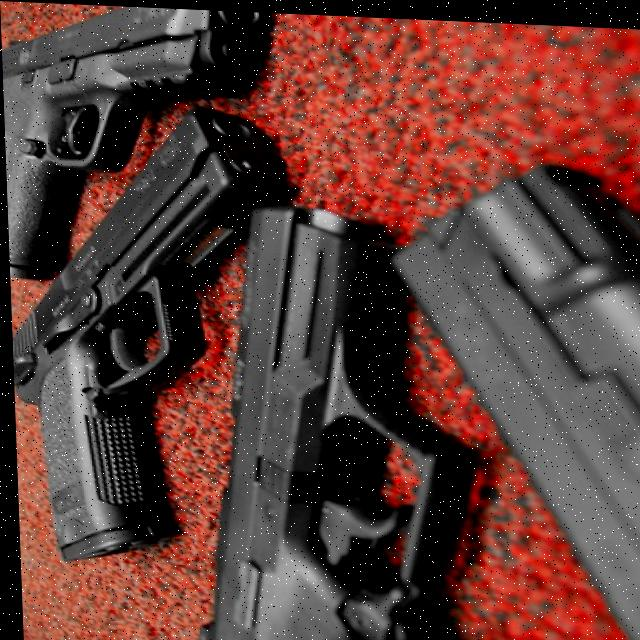pistol: (3, 92, 309, 570), (179, 196, 494, 640), (385, 149, 640, 640), (0, 0, 274, 287)
